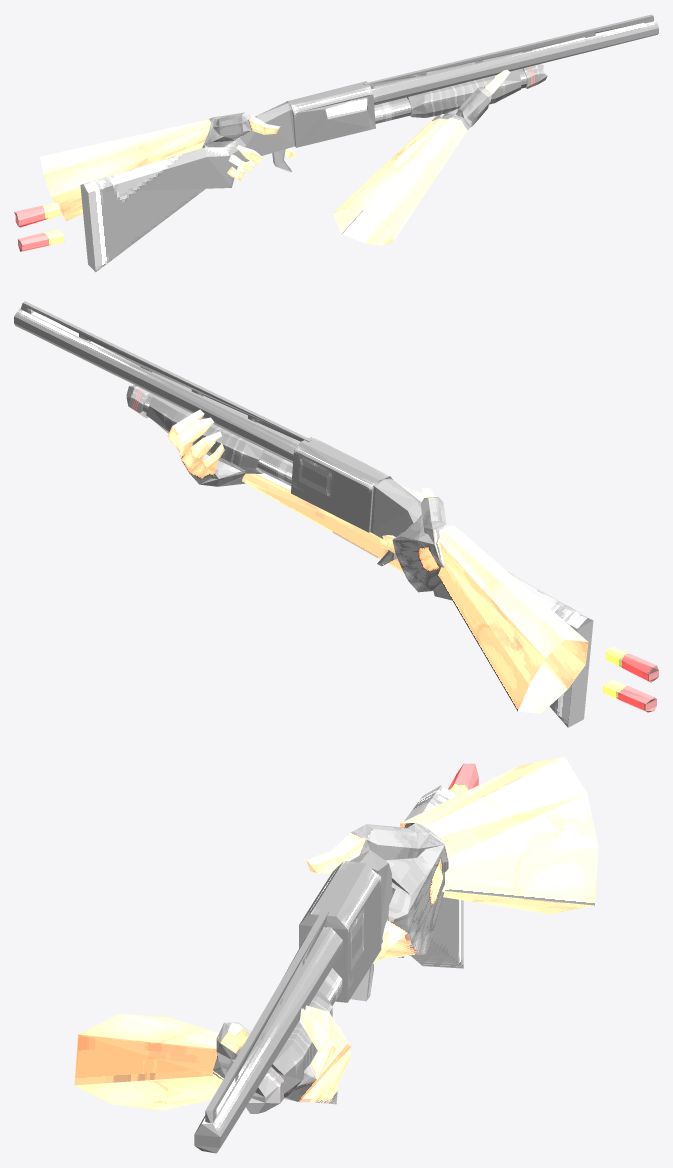
Rendered from mossberg.glb.
The picture shows the model from 3 angles, top to bottom: view 1: azimuth 30°, elevation 25°; view 2: azimuth 150°, elevation 25°; view 3: azimuth 270°, elevation 25°; orthographic projection. The views are drawn at different scales.
Parts seen in each view (by area): view 1: V_MOSS; view 2: V_MOSS; view 3: V_MOSS.
Part boxes in pixels (bbox=[...]): V_MOSS: bbox=[14, 14, 658, 272]; V_MOSS: bbox=[14, 301, 658, 727]; V_MOSS: bbox=[74, 756, 598, 1153].
Size of the model in its own units: 23.93 by 6.87 by 9.41.
